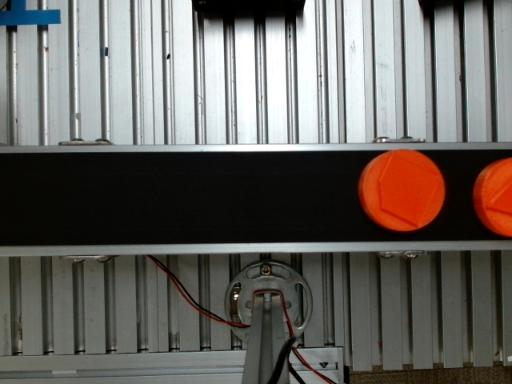Not_Square: (377, 155, 444, 227)
Orange_Waper: (358, 150, 445, 231), (473, 158, 511, 237)
